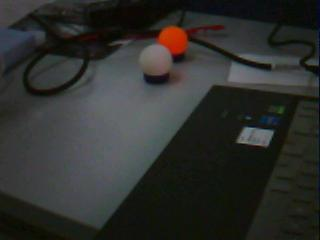oball: (157, 25, 188, 47)
